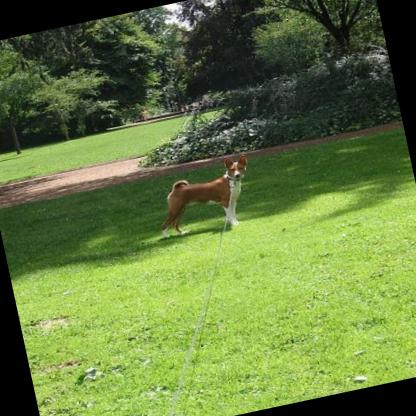basenji: (148, 152, 258, 240)
